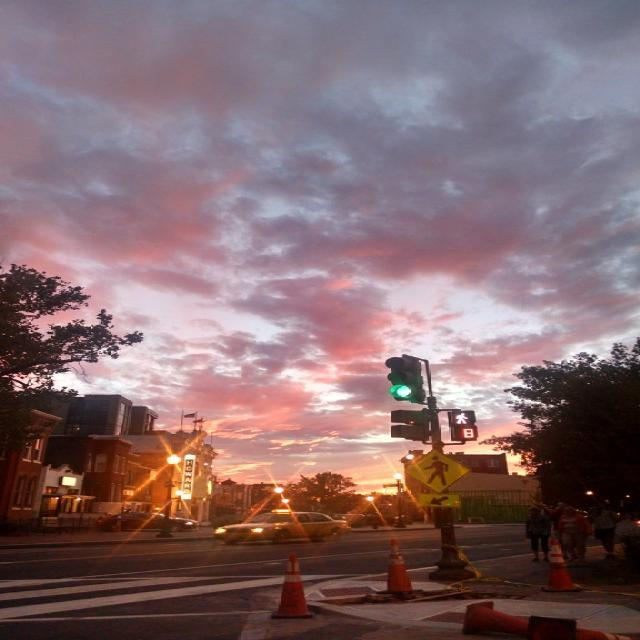traffic light: (384, 357, 417, 401), (390, 410, 428, 442), (448, 411, 478, 440)
